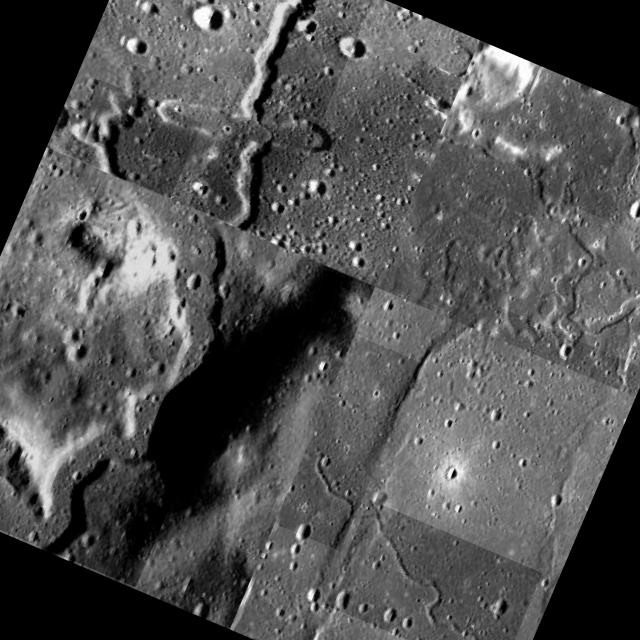rille: (0, 150, 279, 587), (188, 0, 374, 240), (274, 334, 419, 550), (324, 499, 541, 640), (495, 193, 640, 369), (64, 78, 202, 198)
